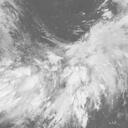cyclone: (31, 34, 101, 82)
